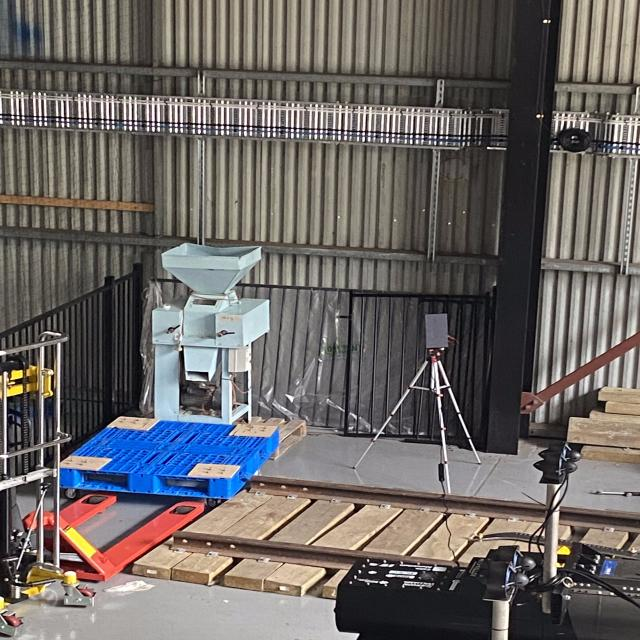matrix: (420, 310, 451, 350)
